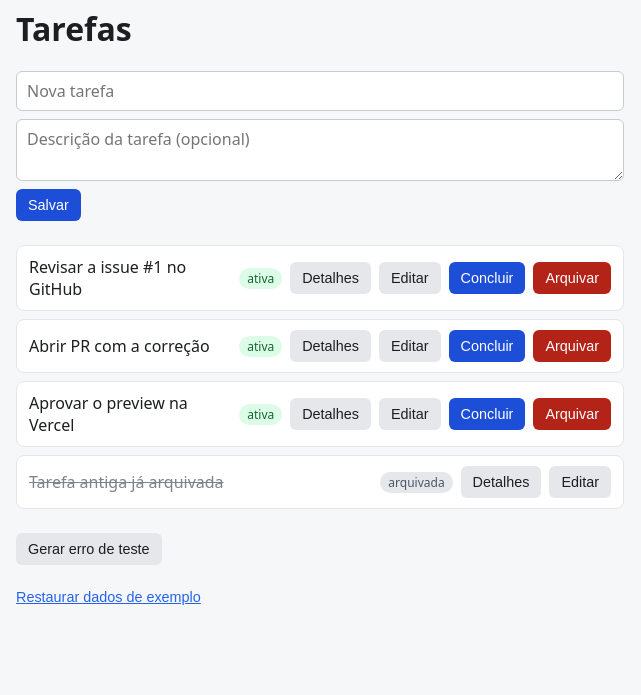
Test: Page › abre os detalhes de tarefas arquivadas sem falhar
Click the button "Detalhes" in the row of "Tarefa antiga já arquivada" at [501, 482], box [461,466,541,498]
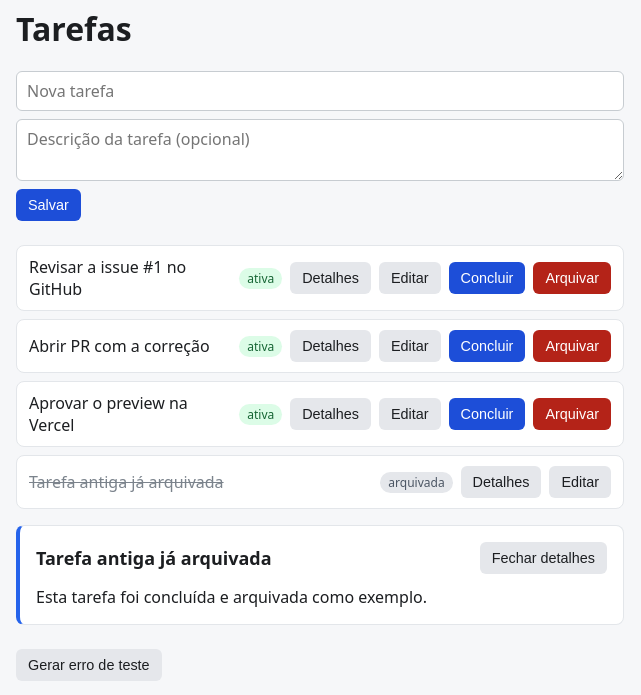
Check: the text "Esta tarefa foi concluída e arquivada como exemplo." is shown, box [36,586,427,608]
